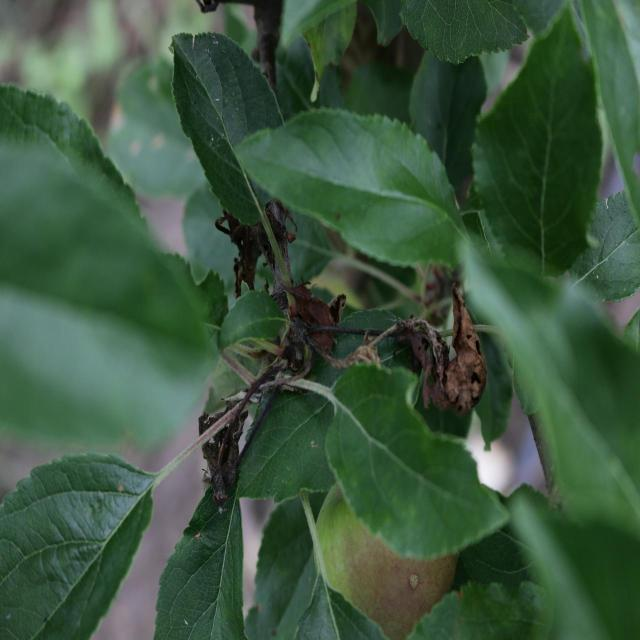-FireBlight-: (200, 186, 494, 520)
